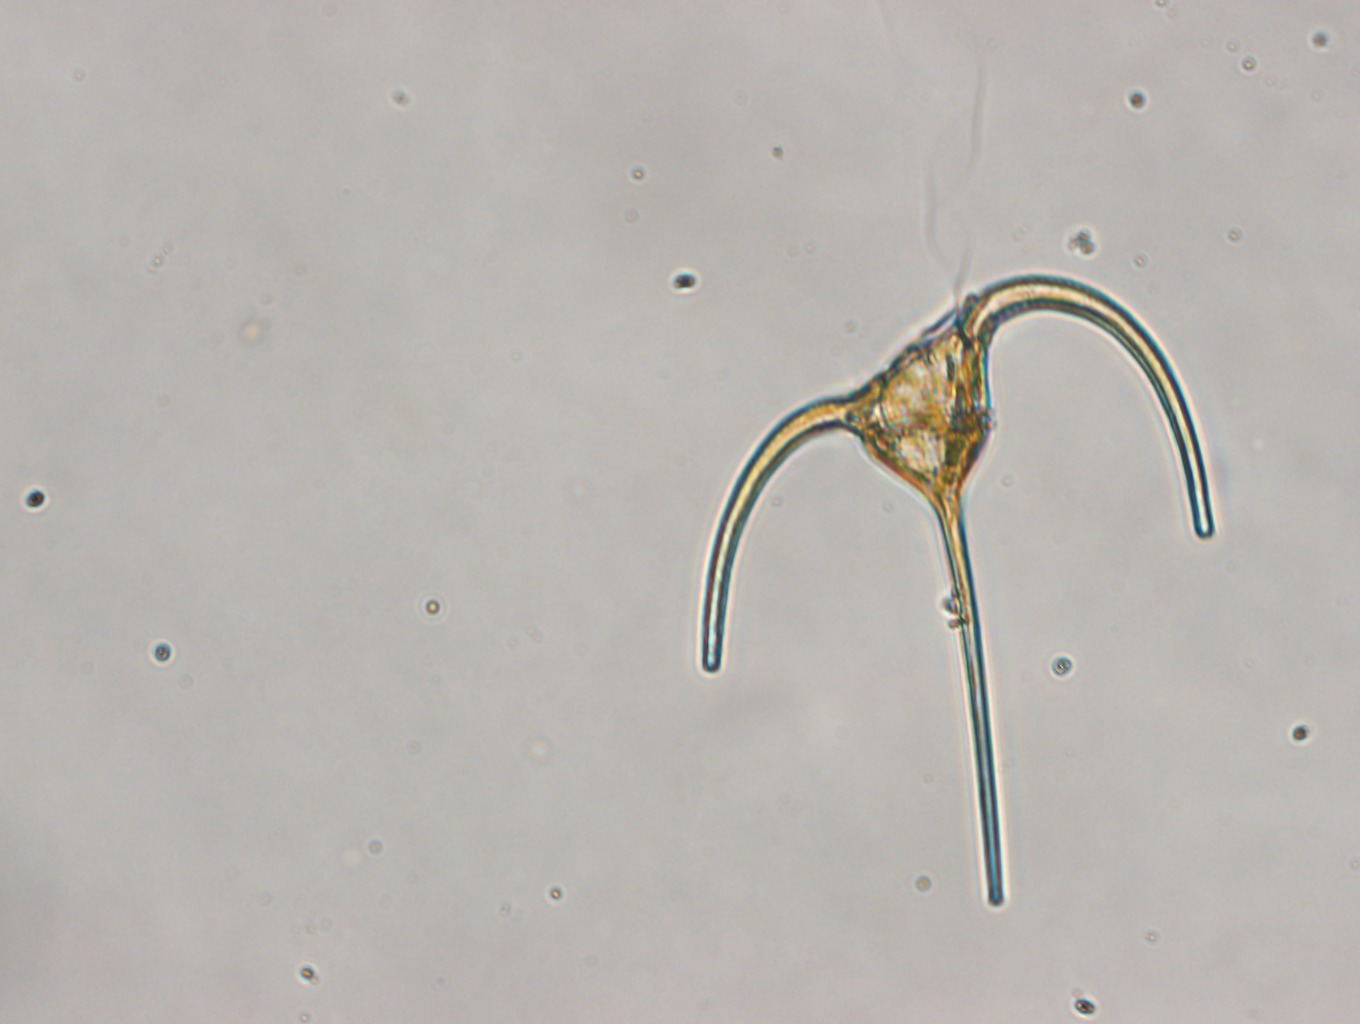ceratium trichoceros: (699, 271, 1217, 907)
